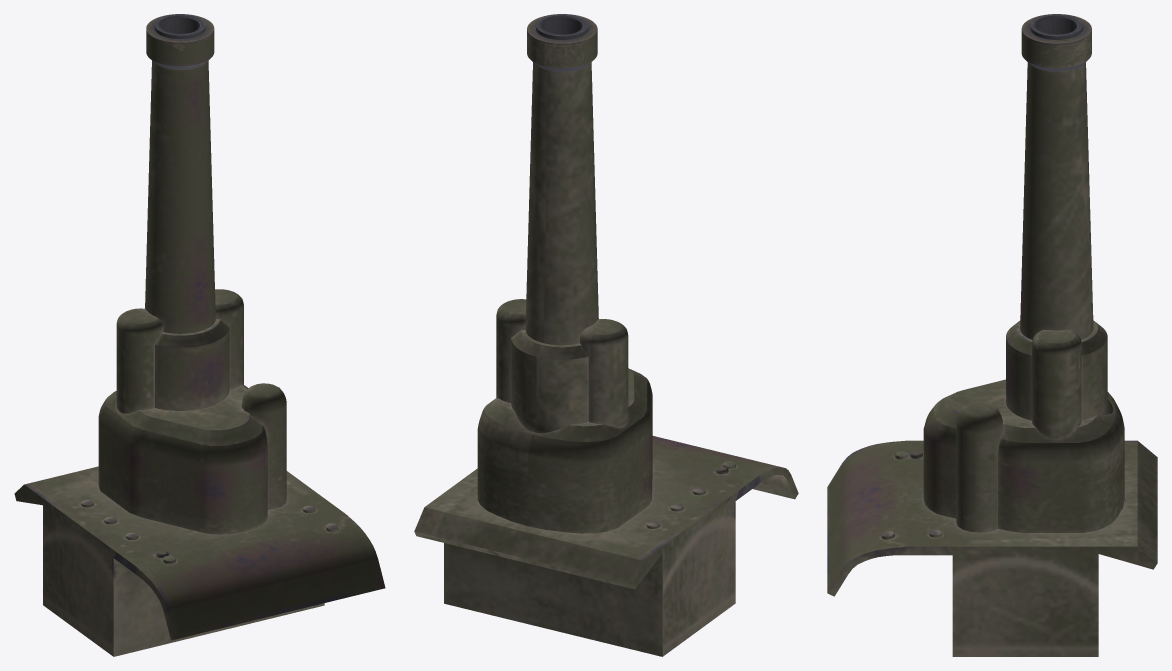
File: Gun_06.glb
The picture shows the model from 3 angles, left to right: view 1: azimuth 30°, elevation 25°; view 2: azimuth 150°, elevation 25°; view 3: azimuth 270°, elevation 25°; orthographic projection. The views are drawn at different scales.
Parts seen in each view (by area): view 1: set_0_group_0; view 2: set_0_group_0; view 3: set_0_group_0.
Boxes of the visible parts, left/top/right/bottom form: set_0_group_0: left=14, top=14, right=385, bottom=656; set_0_group_0: left=414, top=14, right=798, bottom=656; set_0_group_0: left=827, top=14, right=1157, bottom=656.
Bounding box in the file's own units: 0.4626 × 1.19 × 0.6078.
Materials: 1 (1 with a texture image).
